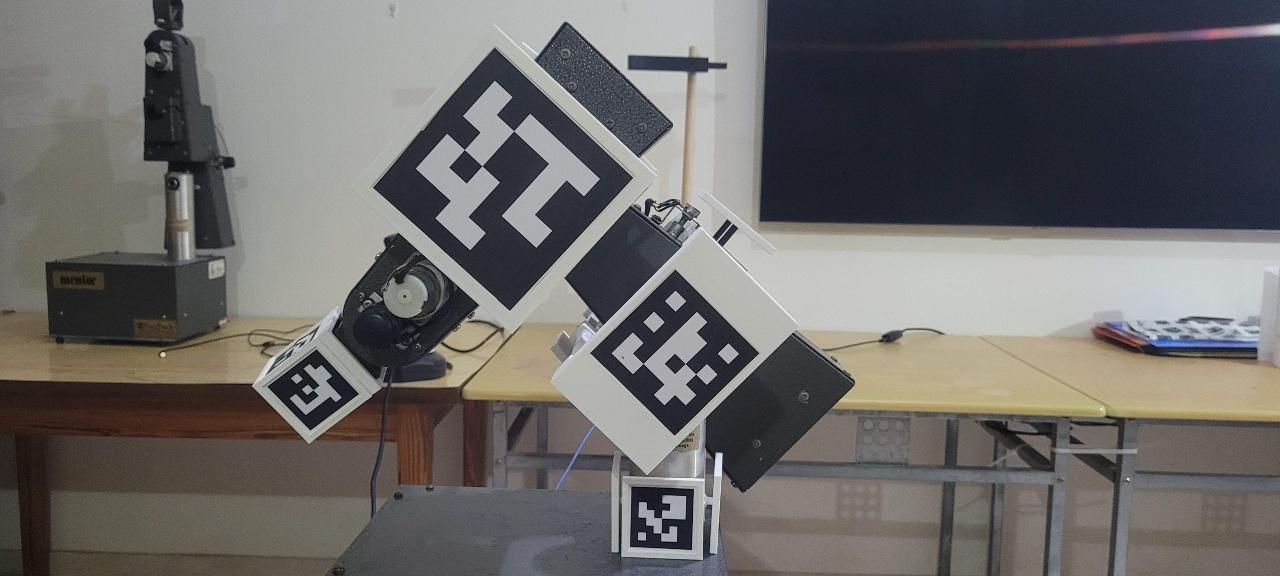Robot: (248, 18, 858, 563)
